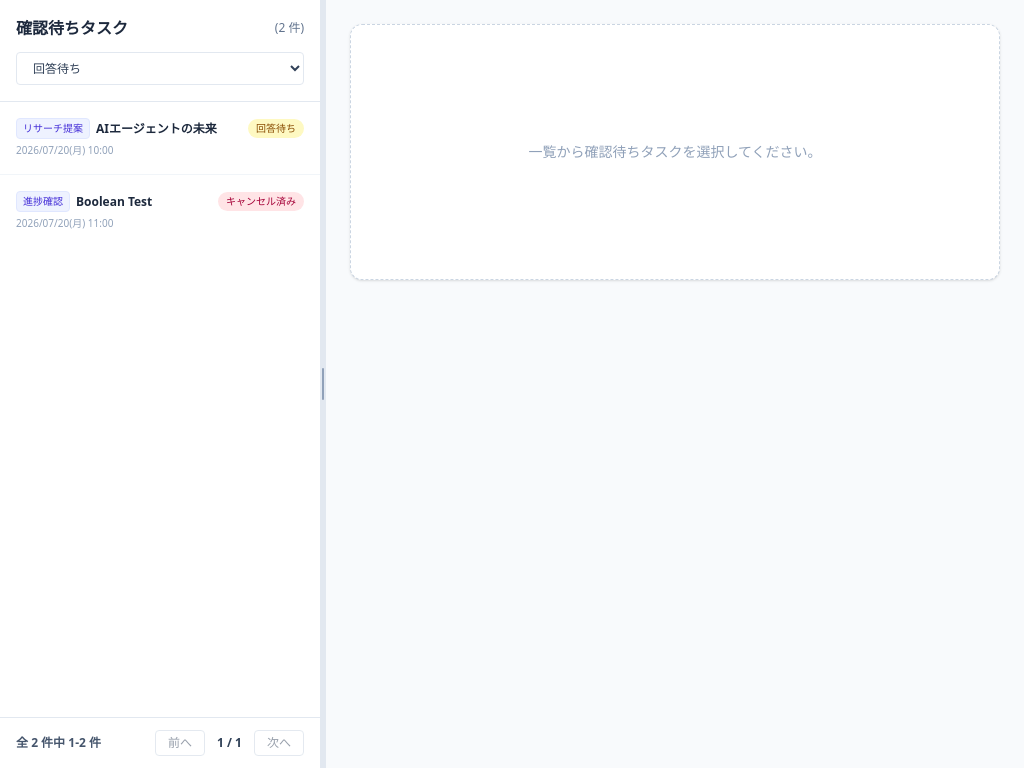
HitlPage › selects a run and initializes question answers
Click the first row to select it
Click the text "AIエージェントの未来" at (156, 128), box [96,120,217,136]
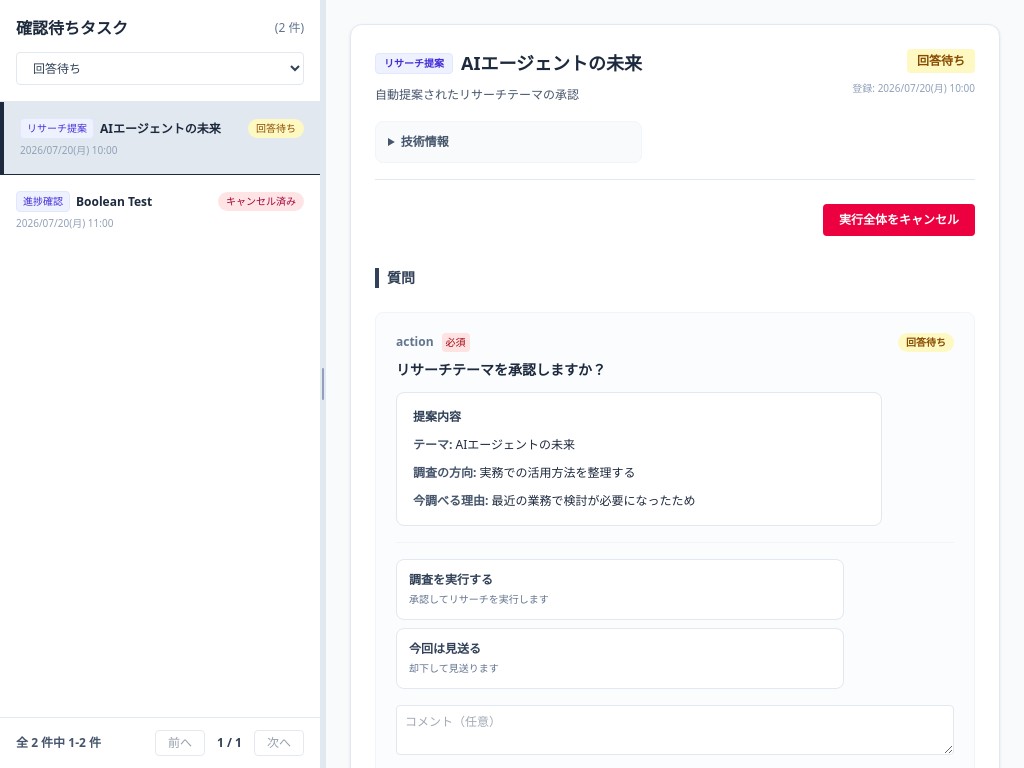
Result: the text "AIエージェントの未来" is shown 3 times at [100,120,221,136]; [461,49,642,77]; [456,436,575,452]
Result: the text "リサーチテーマを承認しますか？" is shown at [396,360,606,378]
Result: the element with test id "research-suggestion-context" shows "テーマ: AIエージェントの未来" at [396,392,882,526]
